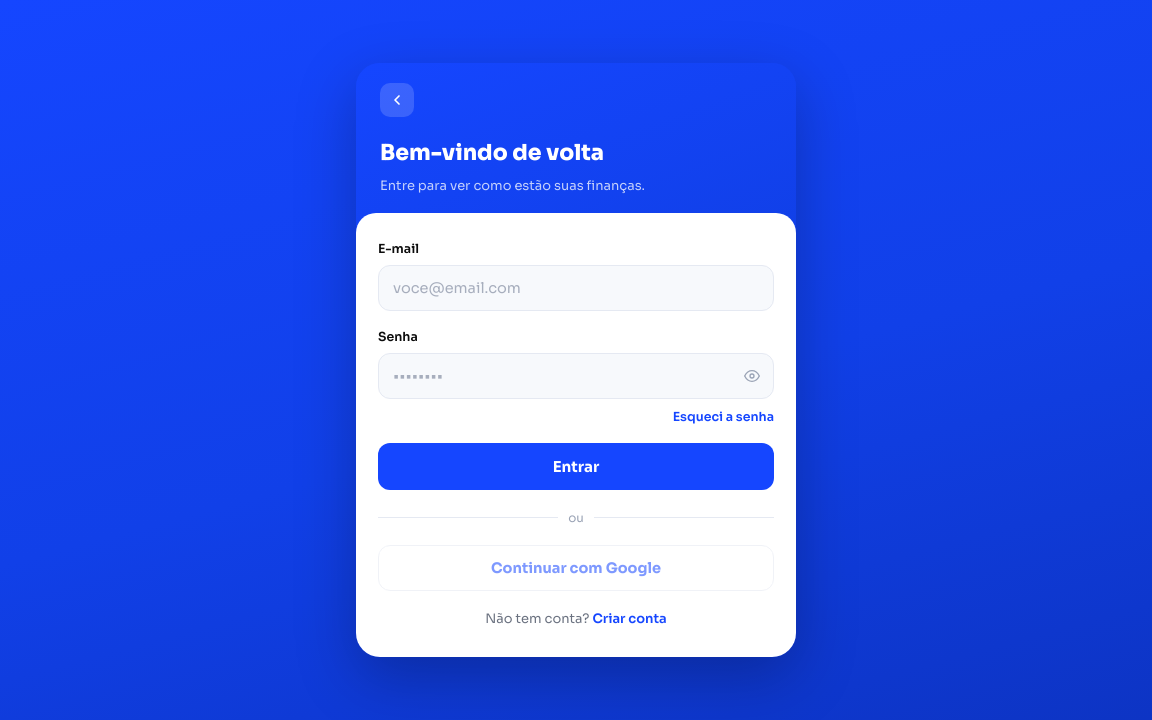
Test: Login — modo entrar › campos vazios pedem para preencher (e-mail inválido e senha curta continuam com a própria mensagem)
Step 1. Click the button "Entrar" → (576,466), box [378,442,774,490]
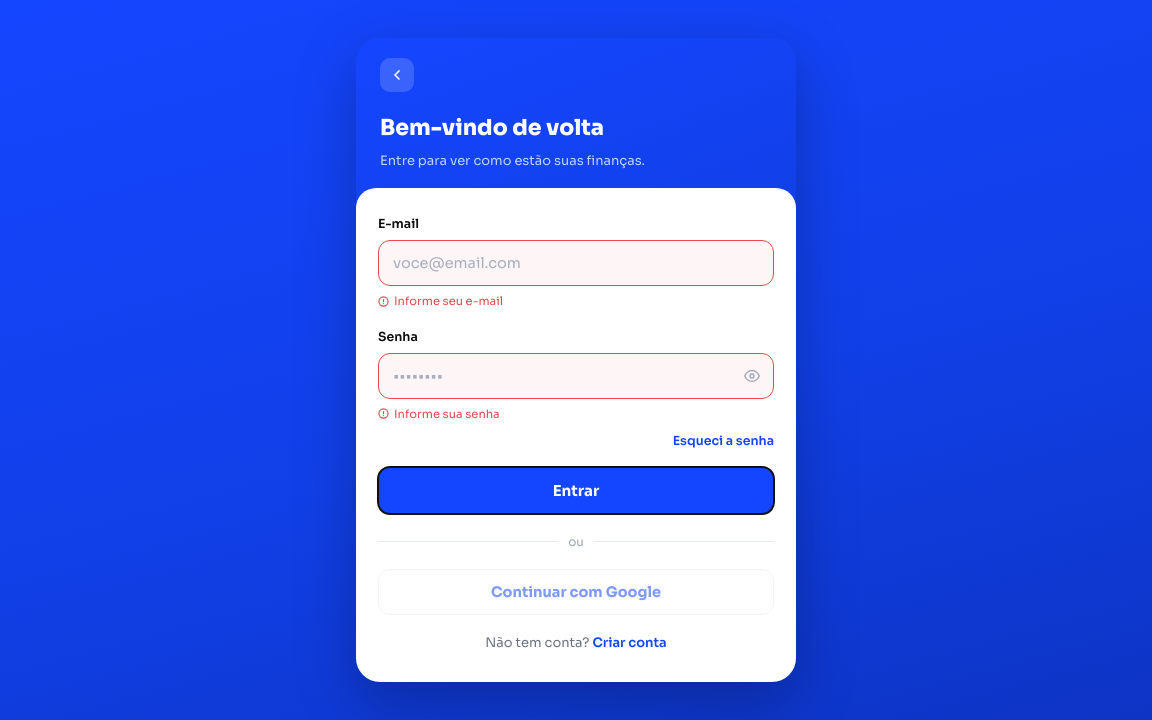
Expected: the text "Informe seu e-mail" is shown, [378,294,503,308]
Expected: the text "Informe sua senha" is shown, [378,406,500,420]
Step 2. Type "abc" into the field with id "f-email" → (576,263), box [378,240,774,286]
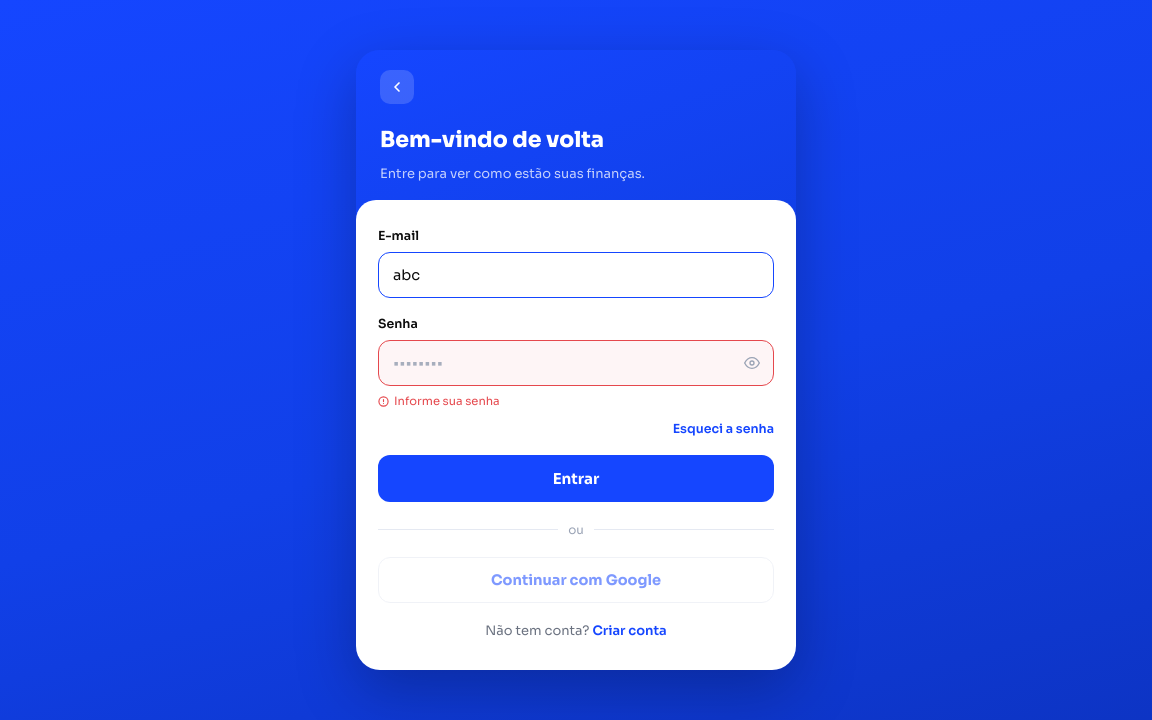
Step 3. Type "123" into the password field with id "f-pass" → (576,363), box [378,340,774,386]
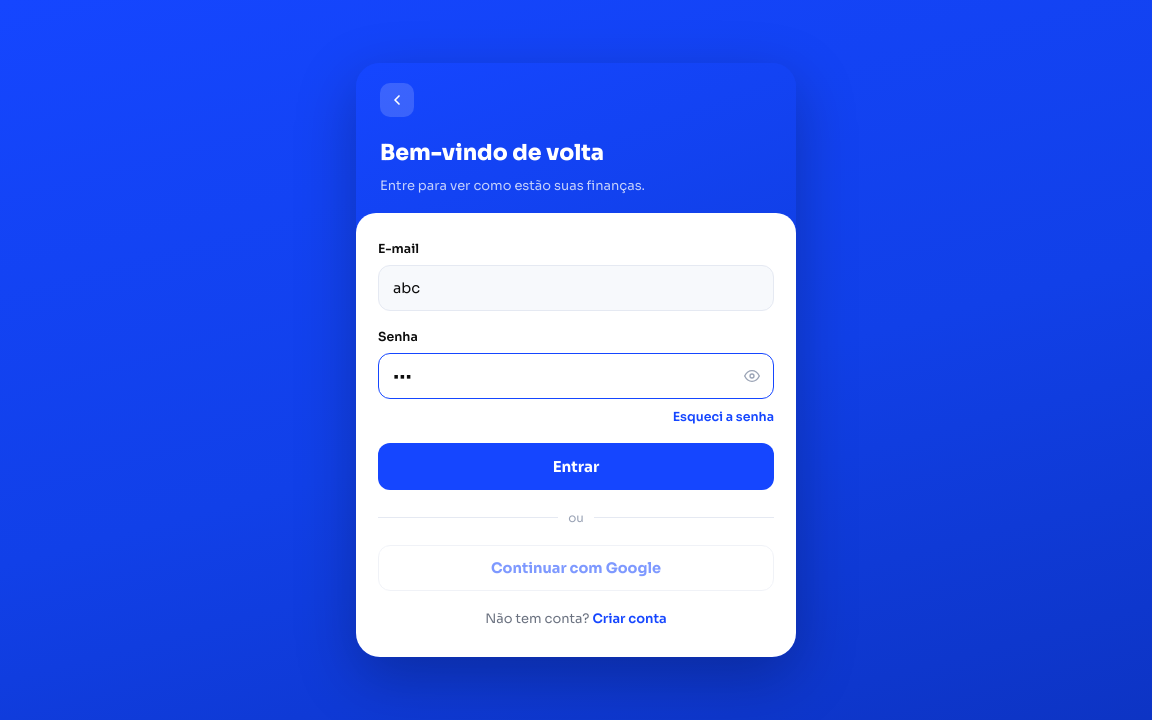
Step 4. Click the button "Entrar" → (576,466), box [378,442,774,490]
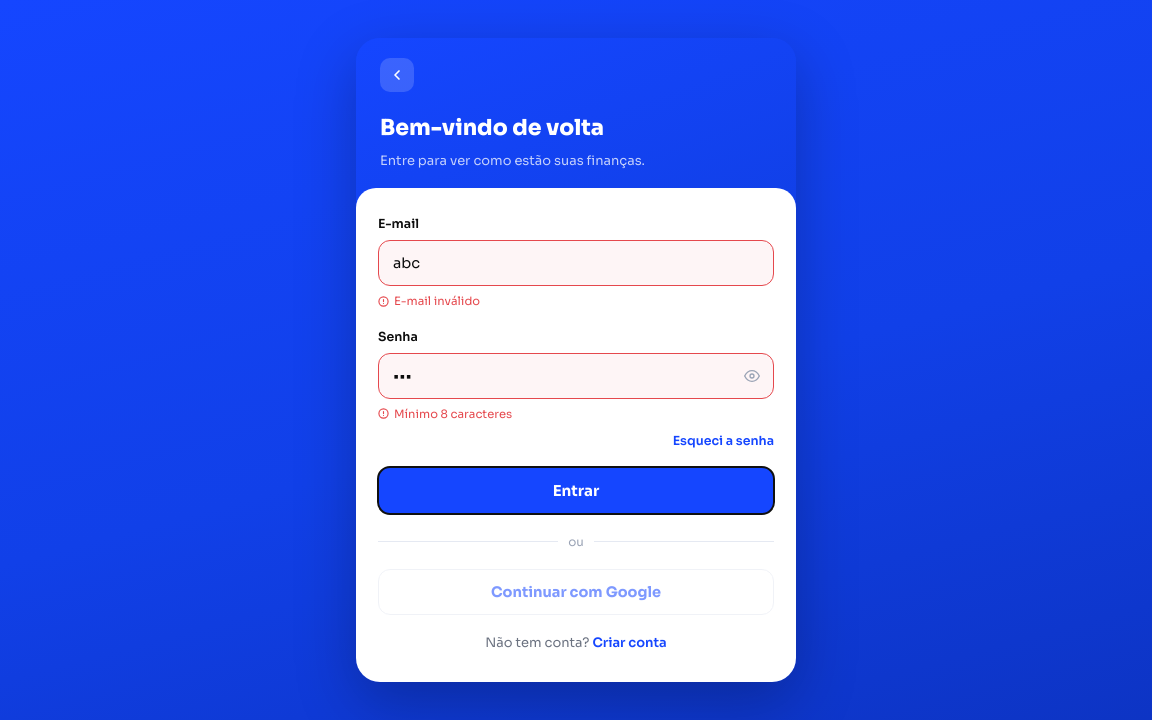
Expected: the text "E-mail inválido" is shown, [378,294,480,308]
Expected: the text "Mínimo 8 caracteres" is shown, [378,406,512,420]
